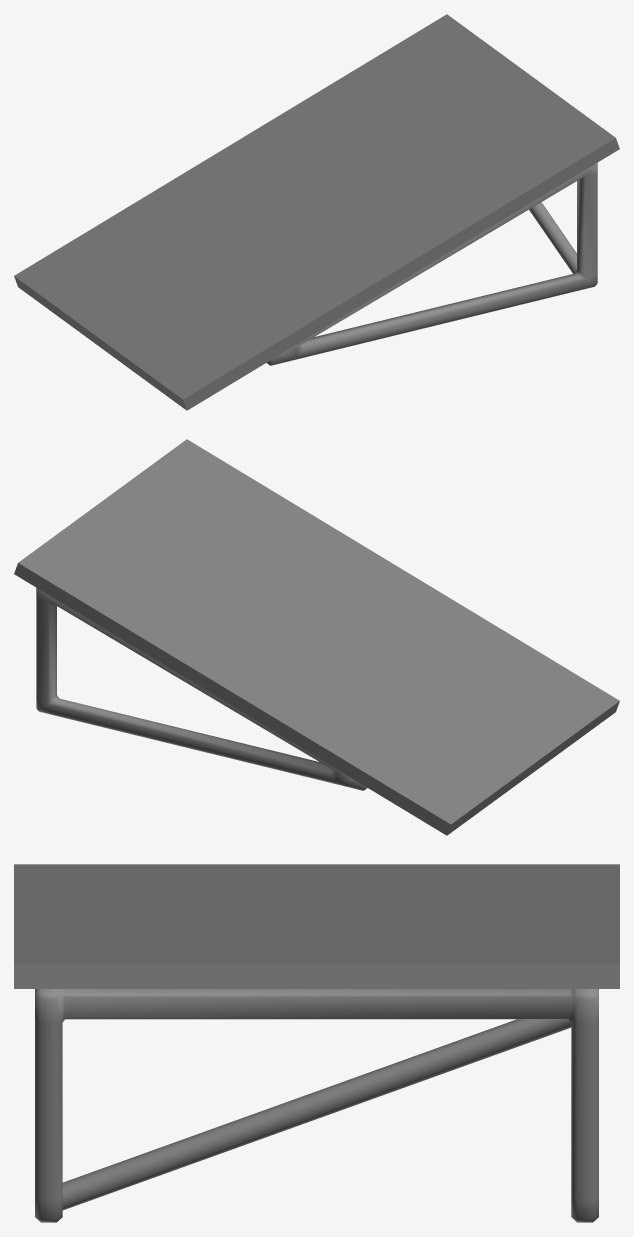
The model's file is springboard.fbx.
3 views of the same model, one above another, from view 1: azimuth 30°, elevation 25°; view 2: azimuth 150°, elevation 25°; view 3: azimuth 270°, elevation 25° (orthographic). The views are drawn at different scales.
Visible parts, largest first — view 1: springboard; view 2: springboard; view 3: springboard.
Part boxes in pixels (x1,y1,x2,y2): springboard: (14, 14, 619, 410); springboard: (14, 439, 619, 835); springboard: (14, 864, 619, 1222).
Bounding box in the file's own units: 374 × 138 × 251.
